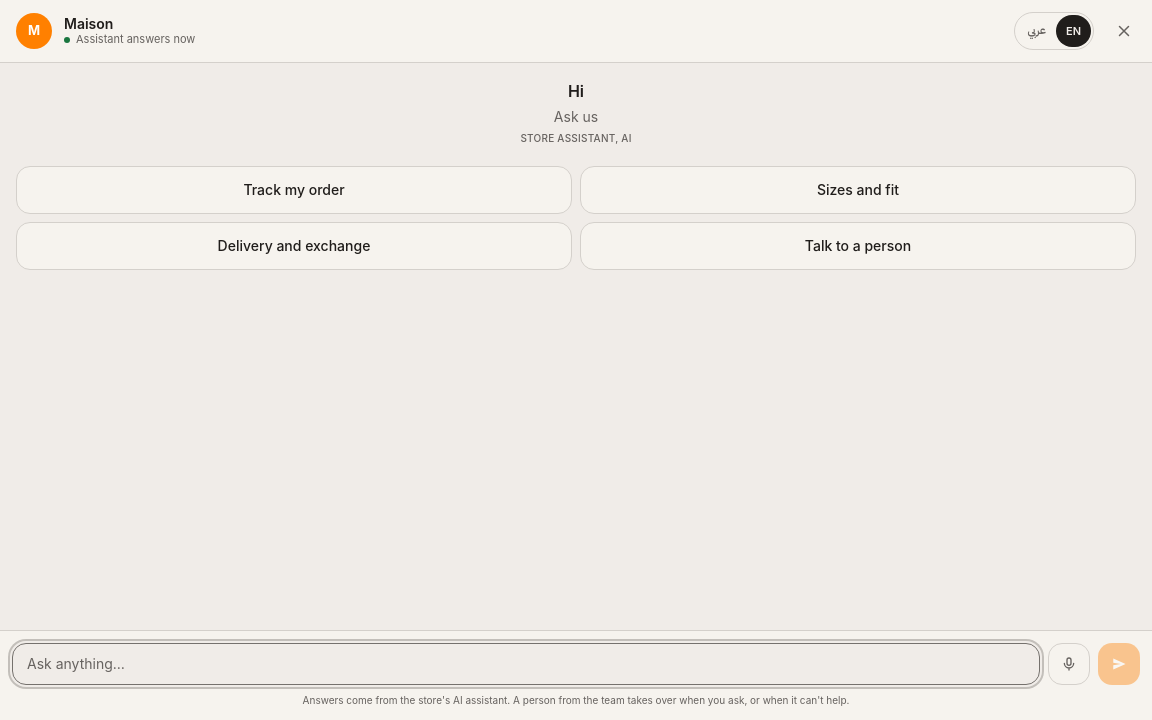
Test: the order lookup in the v16 panel › checks the shape of what was typed before sending anything
(page scrolled)
Click the button "Track my order" at [294, 190], box top-left (16, 166), bottom-right (572, 214)
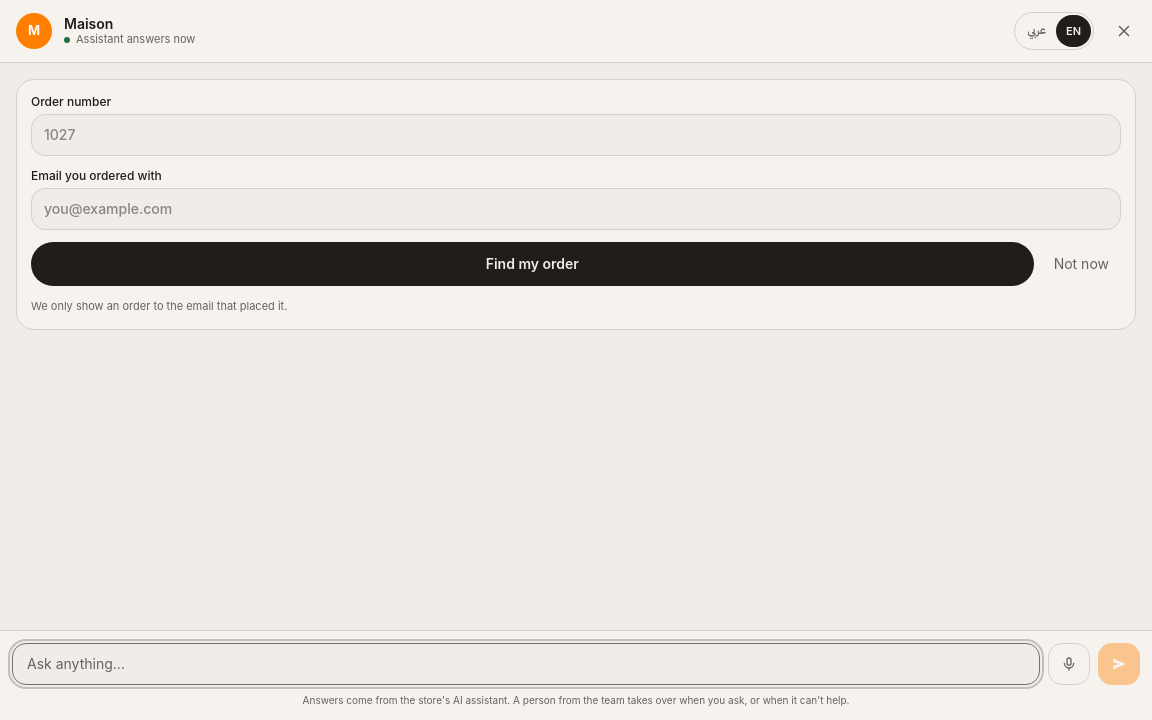
Type "abc" into the field labelled "Order number" at [576, 135], box top-left (31, 114), bottom-right (1121, 156)
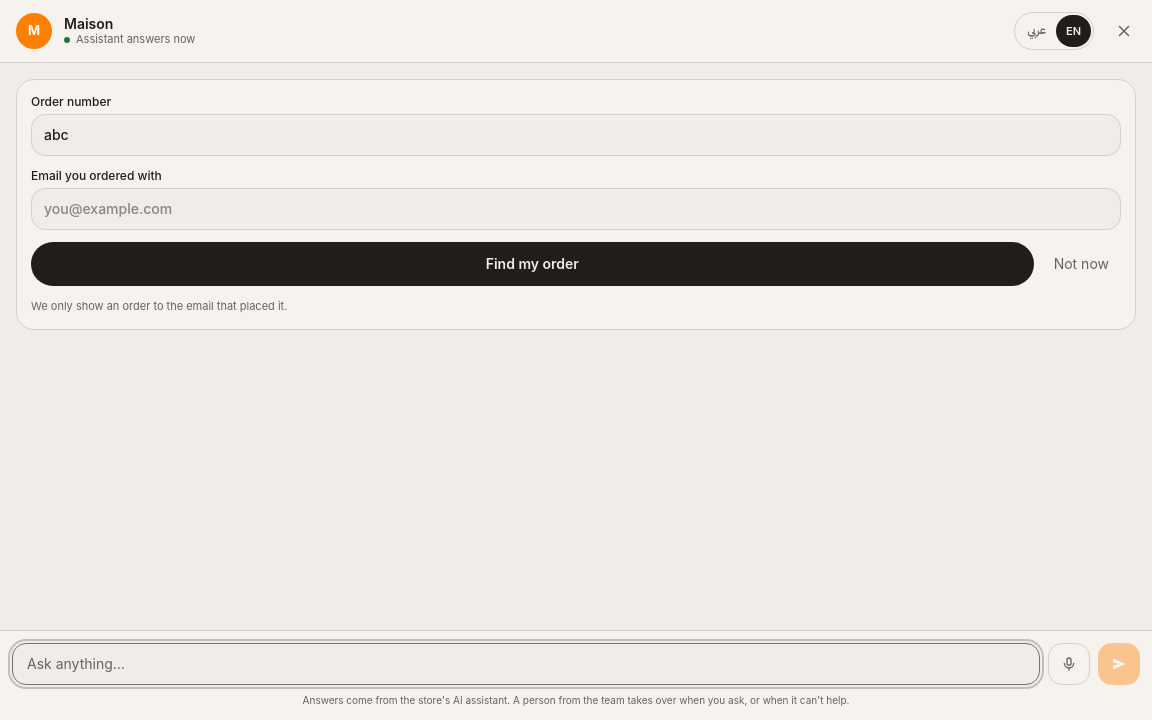
Click the button "Find my order" at [532, 264], box top-left (31, 242), bottom-right (1034, 286)
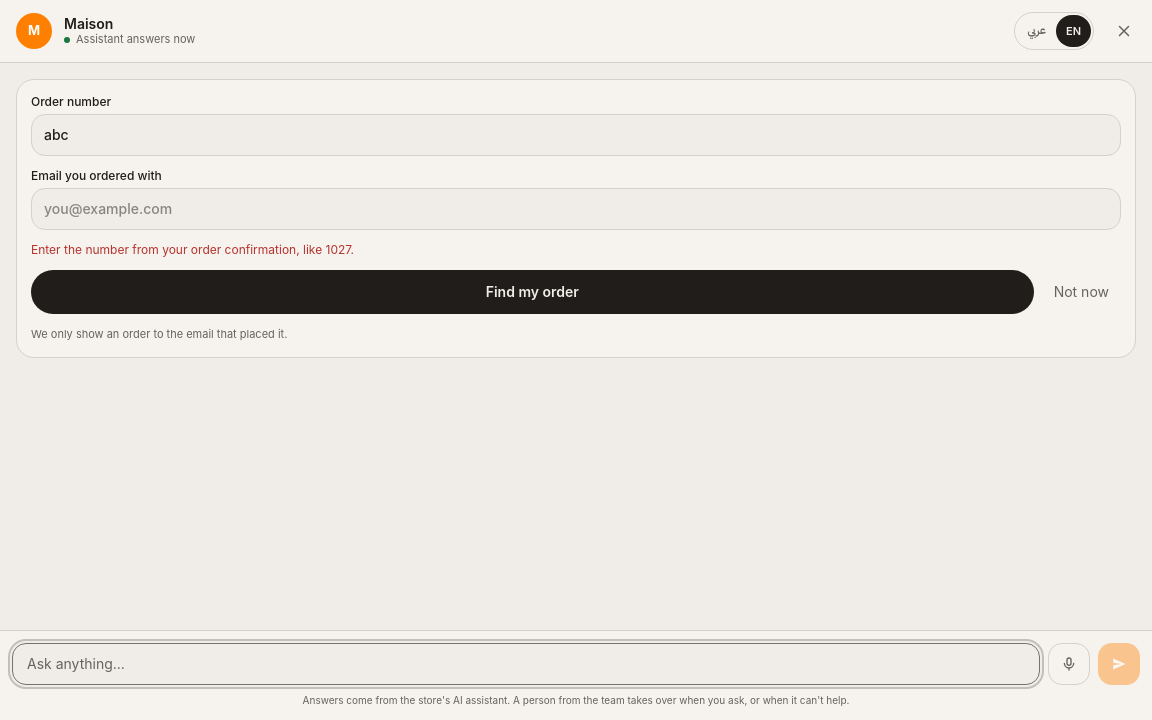
Result: the message reads "Enter the number from your order confirmation, like 1027." at top-left (31, 242), bottom-right (354, 257)
Replace the text in the field labelled "Order number" with "#1027" at [576, 135], box top-left (31, 114), bottom-right (1121, 156)
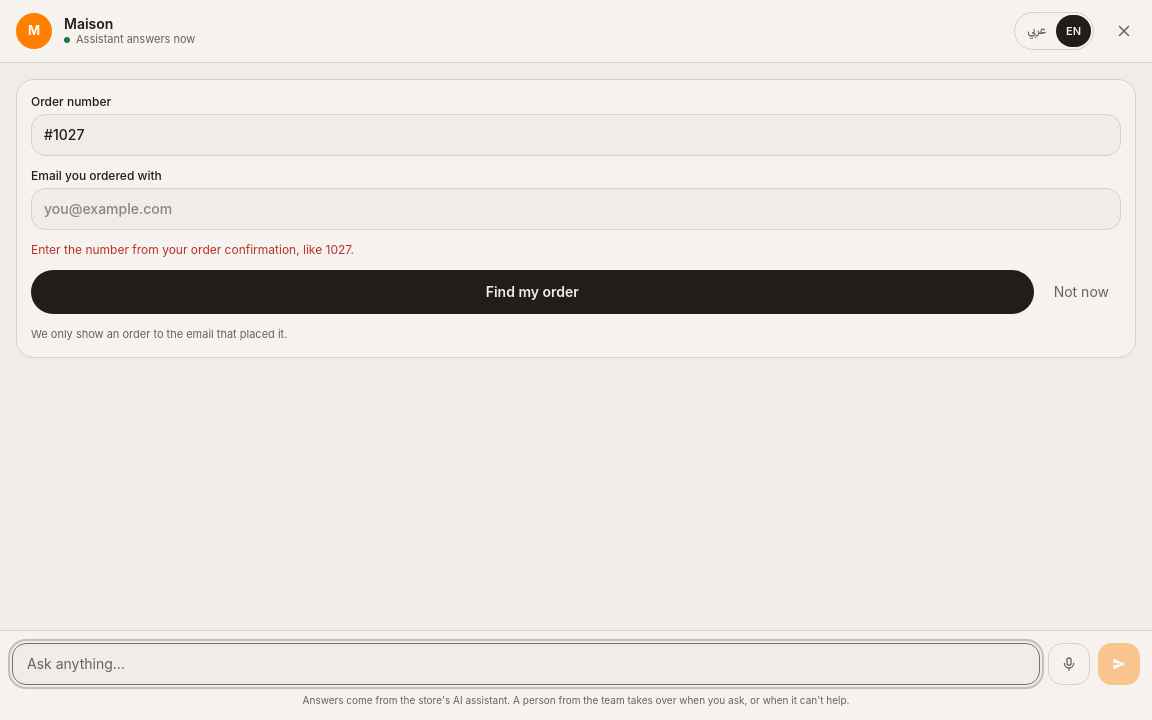
Type "nope" into the field labelled "Email you ordered with" at [576, 209], box top-left (31, 188), bottom-right (1121, 230)
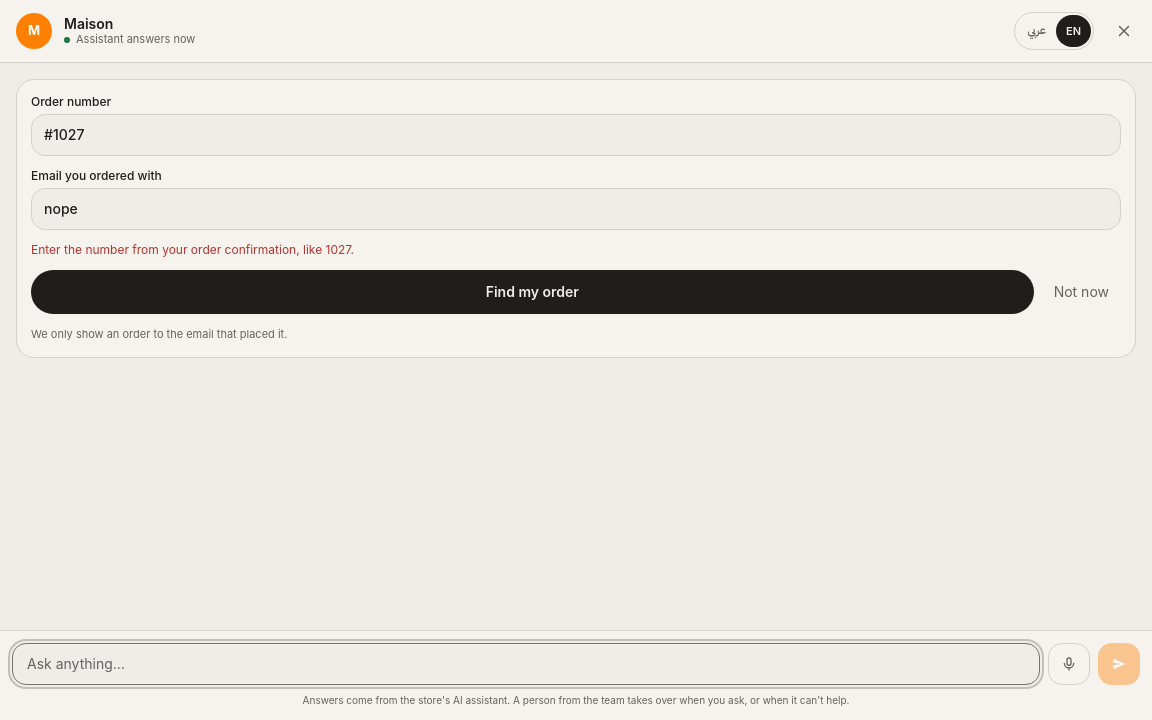
Click the button "Find my order" at [532, 292], box top-left (31, 270), bottom-right (1034, 314)
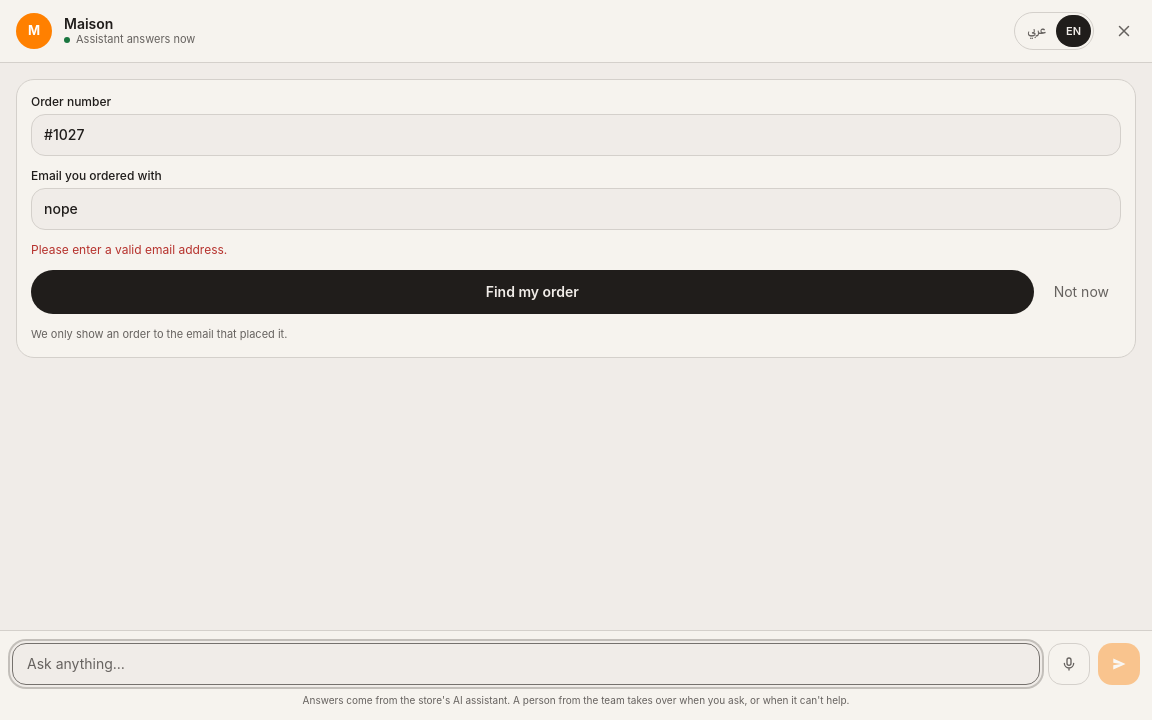
Result: the message reads "Please enter a valid email address." at top-left (31, 242), bottom-right (227, 257)
